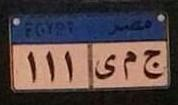1: (62, 49, 80, 82), (45, 50, 57, 81), (28, 51, 37, 83)
jeem: (139, 47, 164, 82)
meem: (119, 50, 137, 81)
yaa: (94, 54, 117, 81)
